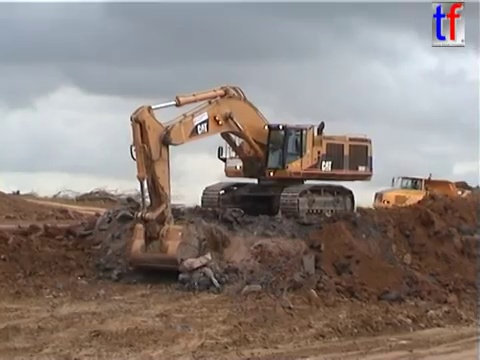excavator: (126, 82, 375, 275)
truck: (371, 172, 480, 222)
